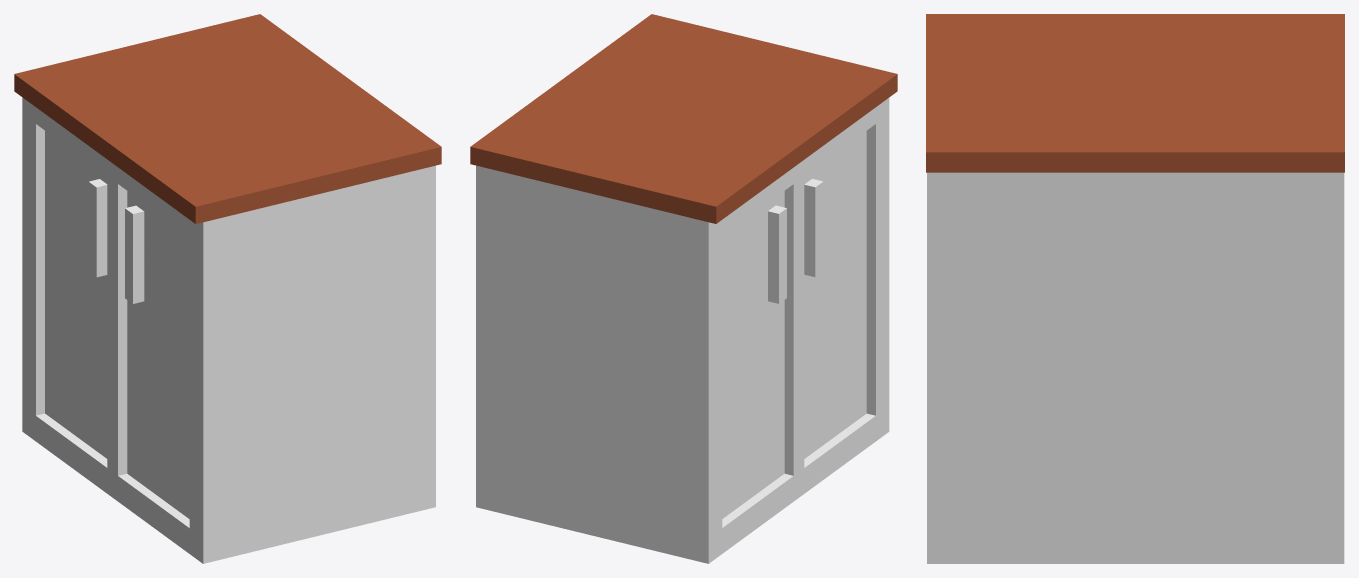
Rendered from Cabnit.fbx.
The picture shows the model from 3 angles, left to right: view 1: azimuth 30°, elevation 25°; view 2: azimuth 150°, elevation 25°; view 3: azimuth 270°, elevation 25°; orthographic projection. The views are drawn at different scales.
Visible parts, largest first — view 1: Cabnit; view 2: Cabnit; view 3: Cabnit.
Boxes of the visible parts, x1,y1,x2,y2 form: Cabnit: (14, 14, 441, 563); Cabnit: (470, 14, 897, 563); Cabnit: (926, 14, 1344, 563).
Size of the model in its own units: 117 by 163 by 149.
